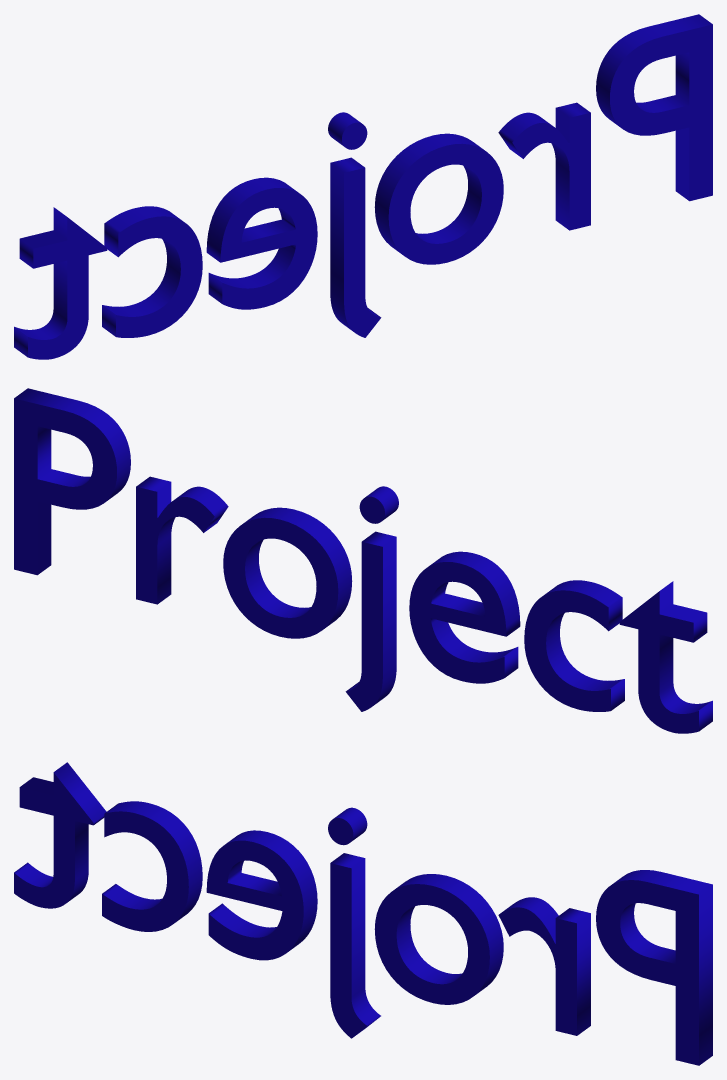
Rendered from Project.glb.
3 views of the same model, one above another, from view 1: azimuth 30°, elevation 25°; view 2: azimuth 150°, elevation 25°; view 3: azimuth 330°, elevation 25° (orthographic).
Visible parts, largest first — view 1: Text; view 2: Text; view 3: Text.
Part boxes in pixels (left/top/right/bottom): Text: left=14, top=14, right=712, bottom=359; Text: left=14, top=388, right=712, bottom=733; Text: left=14, top=762, right=712, bottom=1065.
Bounding box in the file's own units: 2.86 × 0.912 × 0.1.
